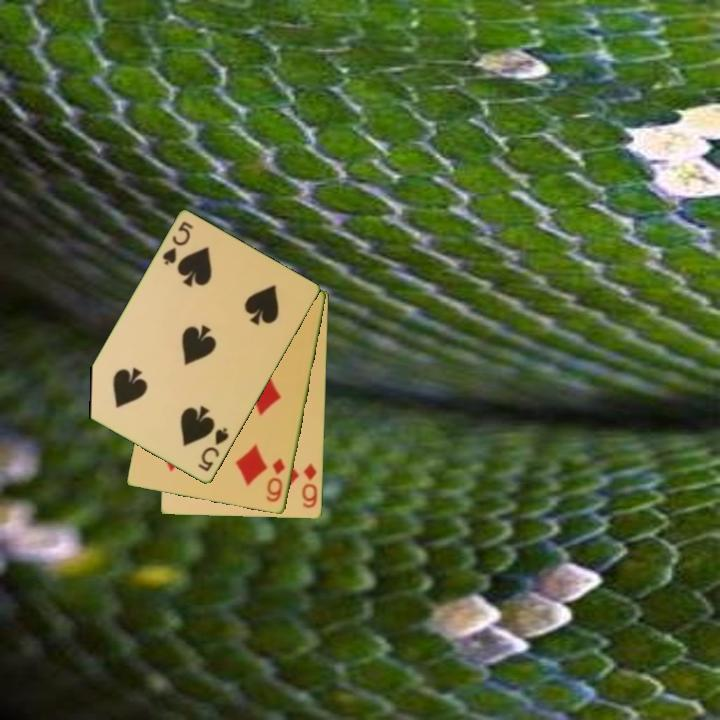5s: (194, 424, 232, 475), (159, 218, 196, 268)
6d: (263, 455, 288, 505), (299, 460, 321, 511)
